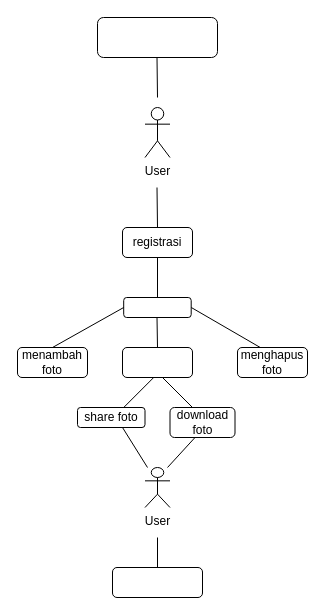
Some shapes in this 325 by 615 pixel diagram are drawn without their labels. Here are the shapes that lost their labels. From the top down, the centre of each, then its label:
the point at 157,37: Membuat laporan Usecase
the point at 157,307: login
the point at 157,362: mengelola foto
the point at 157,582: logout
